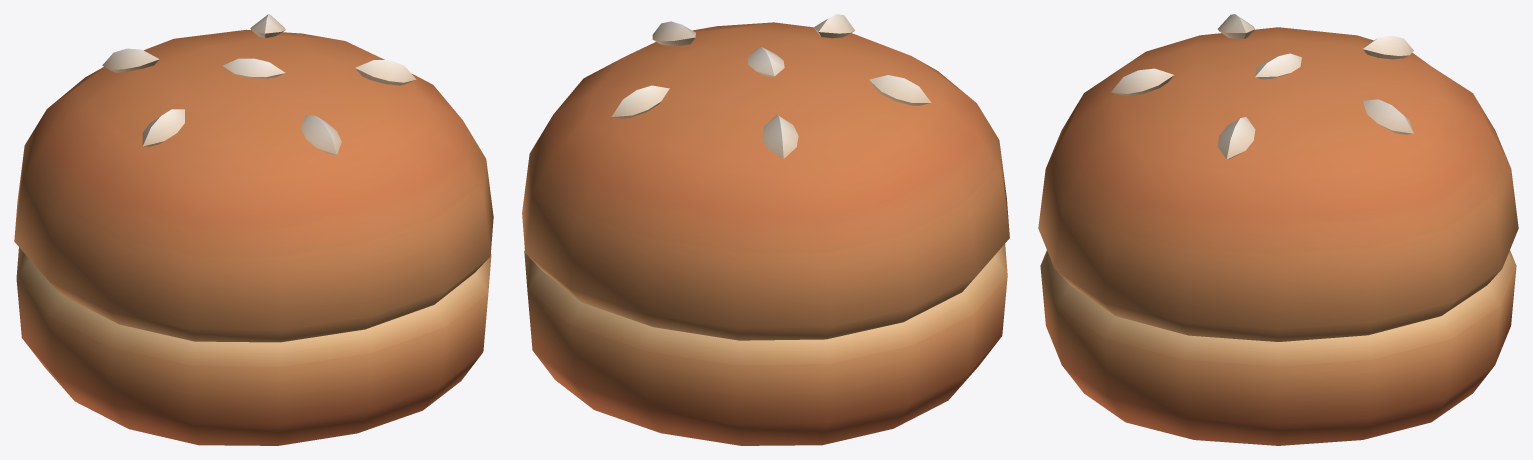
File: kaykit-restaurant-bits-food-ingredient-bun.glb
The picture shows the model from 3 angles, left to right: view 1: azimuth 30°, elevation 25°; view 2: azimuth 150°, elevation 25°; view 3: azimuth 270°, elevation 25°; orthographic projection.
Parts seen in each view (by area): view 1: food_ingredient_bun; view 2: food_ingredient_bun; view 3: food_ingredient_bun.
Boxes of the visible parts, bbox=[...] form: food_ingredient_bun: bbox=[14, 14, 493, 445]; food_ingredient_bun: bbox=[522, 14, 1009, 445]; food_ingredient_bun: bbox=[1038, 14, 1518, 445].
Size of the model in its own units: 0.7 by 0.5072 by 0.7.
1 material, 1 textured.
